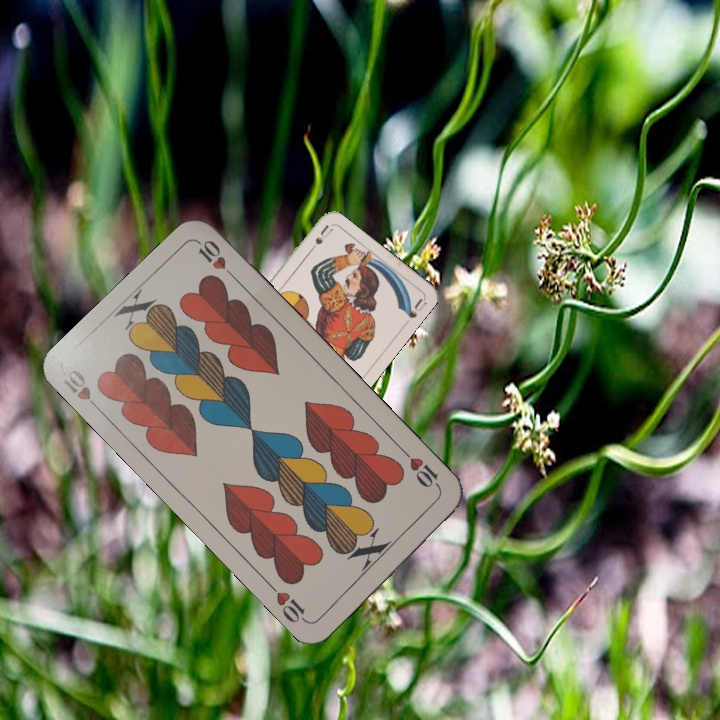H10: (59, 365, 106, 416), (398, 446, 444, 493)
SU: (303, 221, 334, 258)
